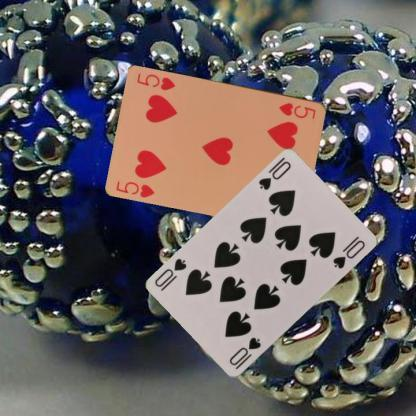10s: (226, 335, 262, 368), (256, 159, 292, 192)
5h: (114, 178, 156, 199), (276, 100, 317, 120)
